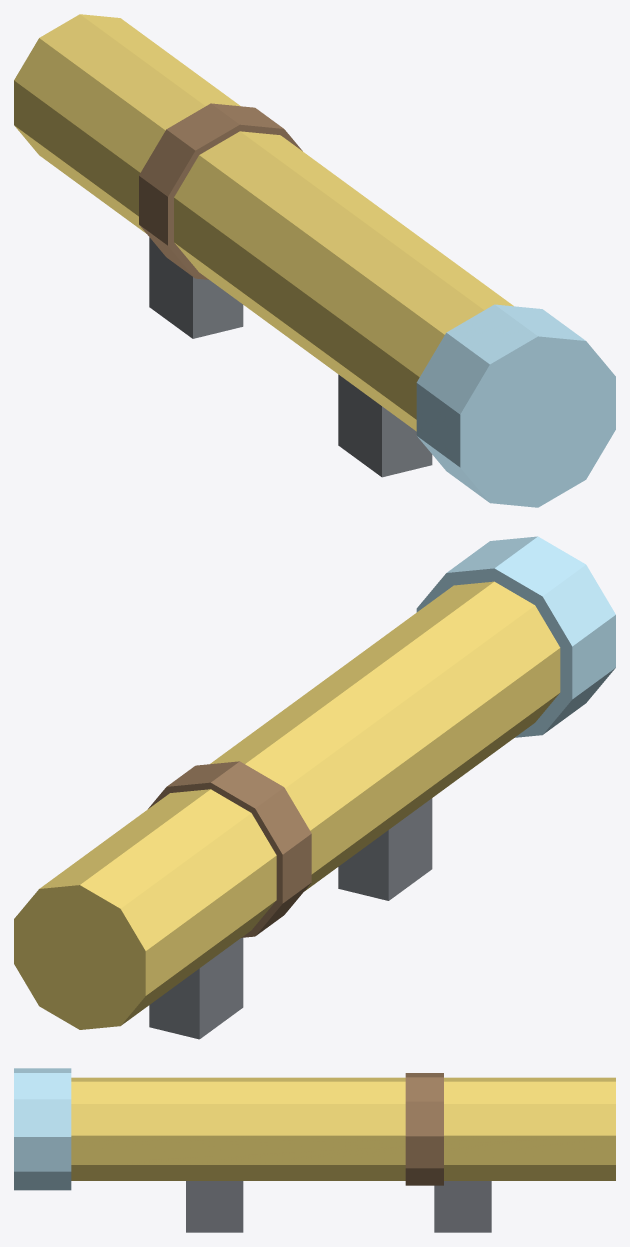
Rendered from AttScope.fbx.
3 views of the same model, one above another, from view 1: azimuth 30°, elevation 25°; view 2: azimuth 150°, elevation 25°; view 3: azimuth 270°, elevation 25° (orthographic). The views are drawn at different scales.
Parts seen in each view (by area): view 1: Body; view 2: Body; view 3: Body.
Part boxes in pixels (x1,y1,x2,y2): Body: (14, 14, 615, 507); Body: (14, 536, 615, 1039); Body: (14, 1068, 615, 1232).
Bounding box in the file's own units: 0.0618 × 0.0875 × 0.315.
